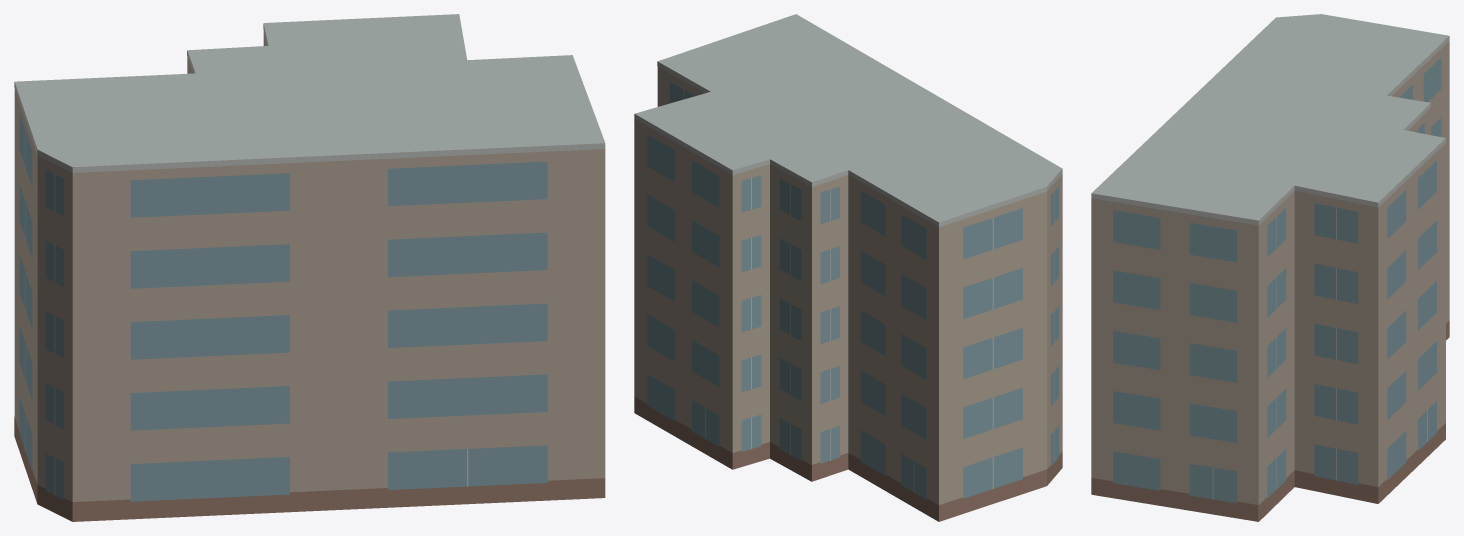
The model's file is survey-upis-32874593.glb.
The picture shows the model from 3 angles, left to right: view 1: azimuth 30°, elevation 25°; view 2: azimuth 150°, elevation 25°; view 3: azimuth 270°, elevation 25°; orthographic projection. The views are drawn at different scales.
Parts seen in each view (by area): view 1: survey-upis-32874593.tmp; view 2: survey-upis-32874593.tmp; view 3: survey-upis-32874593.tmp.
Part boxes in pixels (x1=…): survey-upis-32874593.tmp: x1=14, y1=14, x2=605, y2=521; survey-upis-32874593.tmp: x1=634, y1=14, x2=1062, y2=521; survey-upis-32874593.tmp: x1=1091, y1=14, x2=1449, y2=521.
Bounding box in the file's own units: 22.21 × 15.1 × 16.28.
